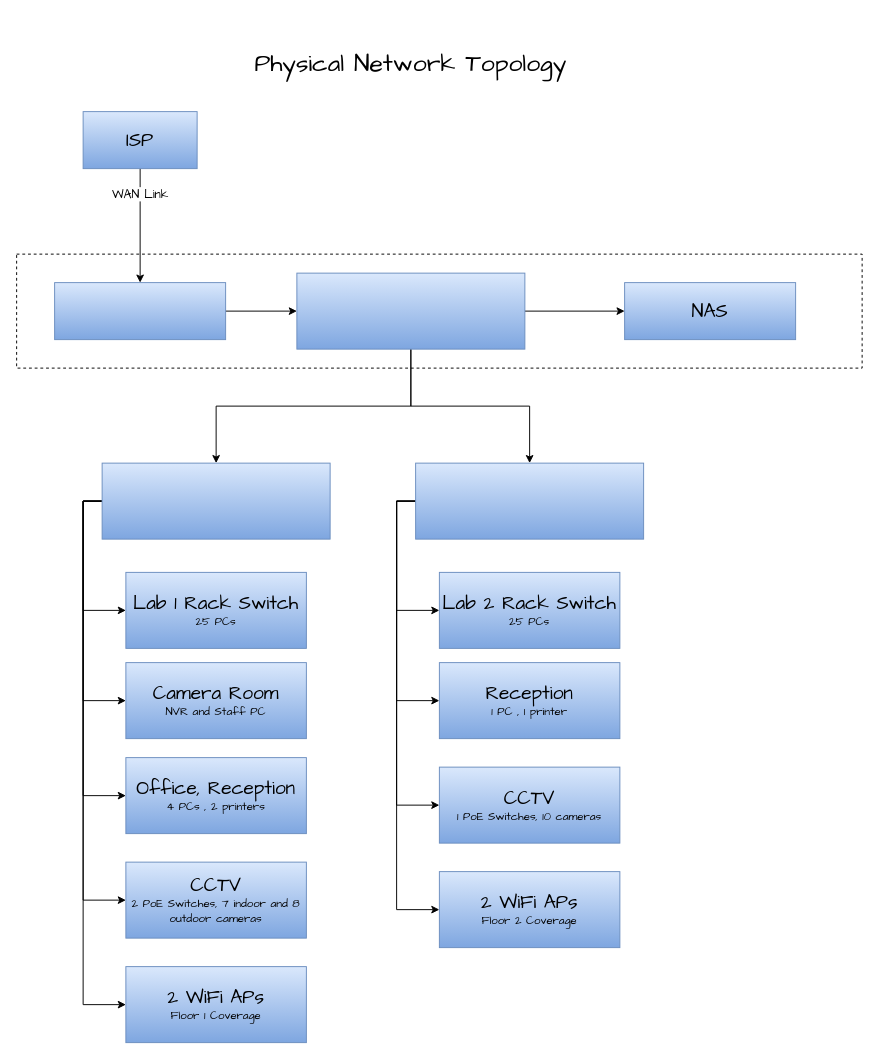
Some shapes in this 879 by 1059 pixel diagram are drawn without their labels. Here are the shapes that lost their labels. From the top down, the centre of each, then its label:
At point 140,311: "Firewall / Router".
At point 410,310: "Main Switch".
At point 215,500: "Floor 1 Devices Connects to Main Switch".
At point 529,500: "Floor 2 Mini Rack Uplinks to Main Switch".
